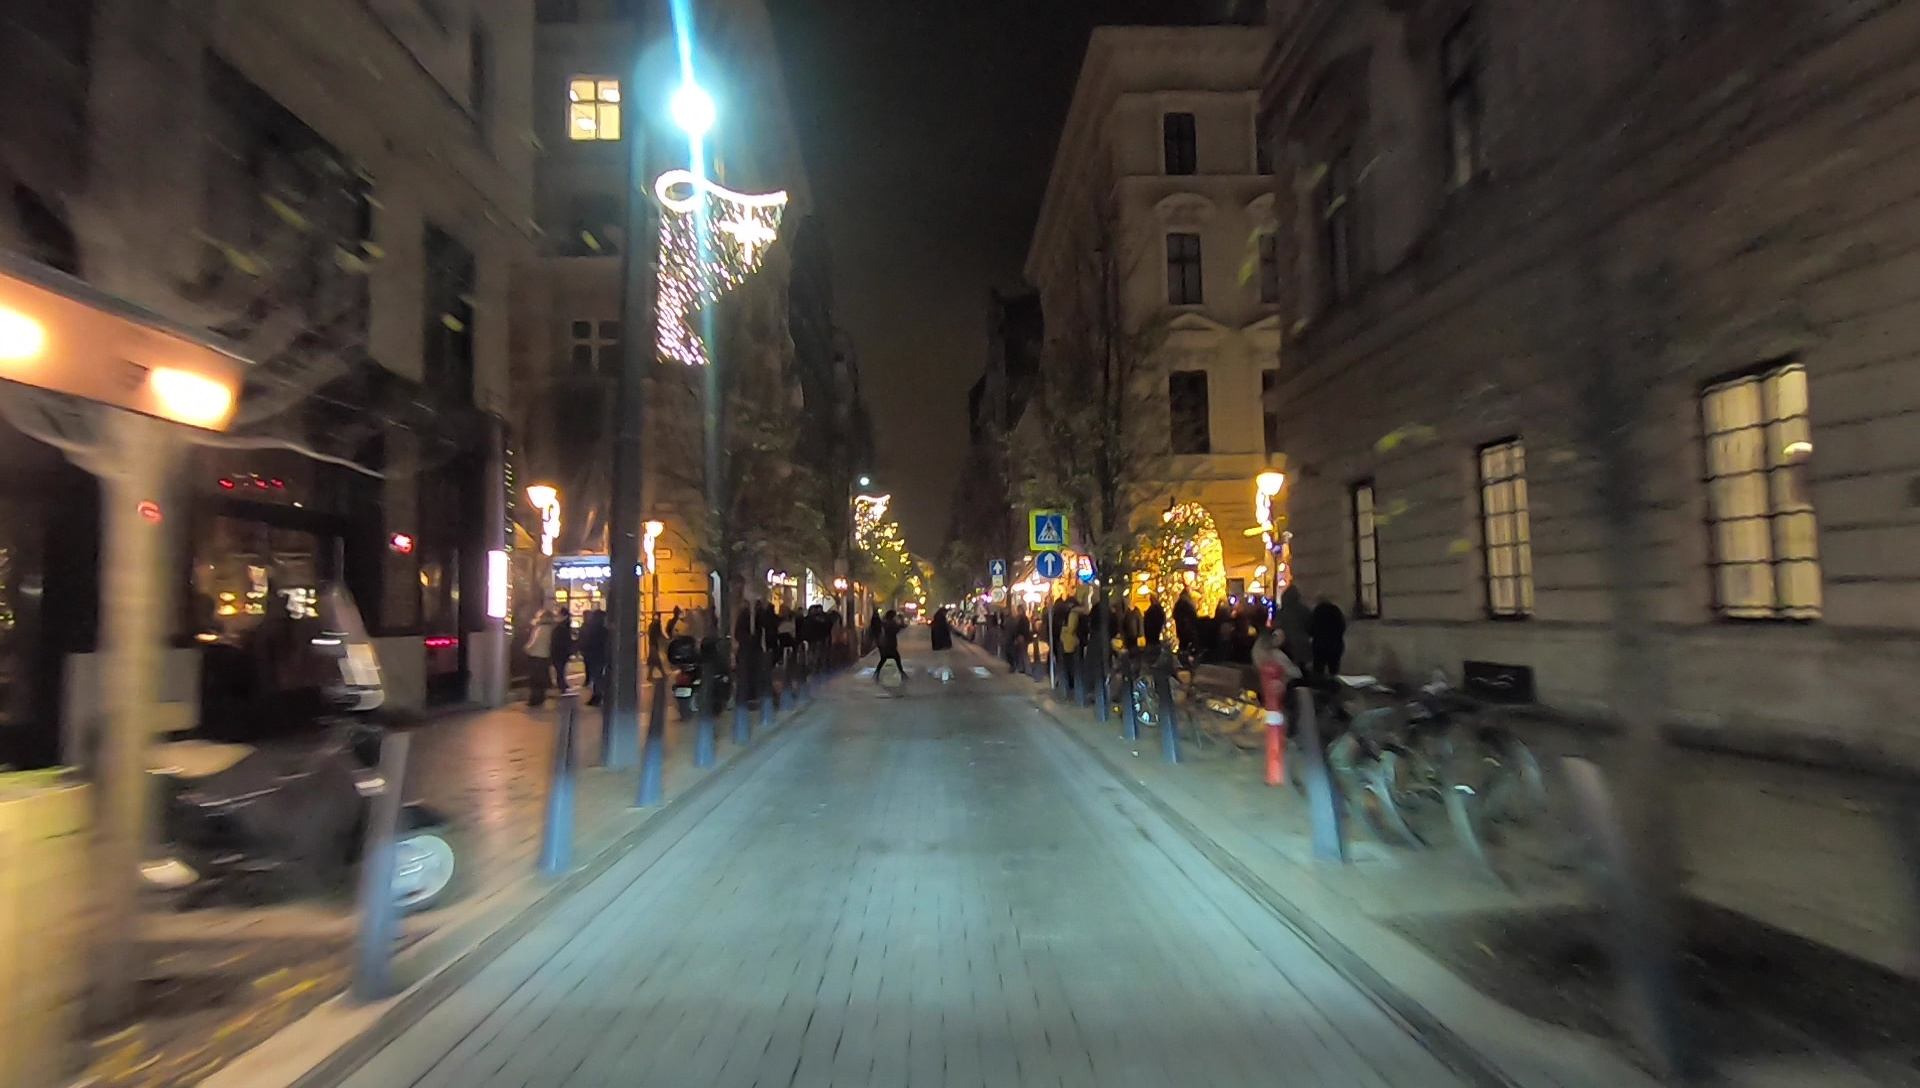person: (1059, 597, 1088, 694), (1284, 593, 1314, 680), (1317, 597, 1345, 684), (876, 612, 909, 685), (529, 607, 551, 710), (928, 603, 954, 684), (1168, 588, 1197, 655), (1087, 597, 1107, 691), (551, 606, 572, 691), (1006, 605, 1029, 672), (582, 612, 601, 687), (647, 611, 668, 681), (1145, 598, 1166, 666), (763, 600, 778, 679), (1122, 601, 1141, 660), (737, 599, 751, 667), (750, 600, 763, 669)
